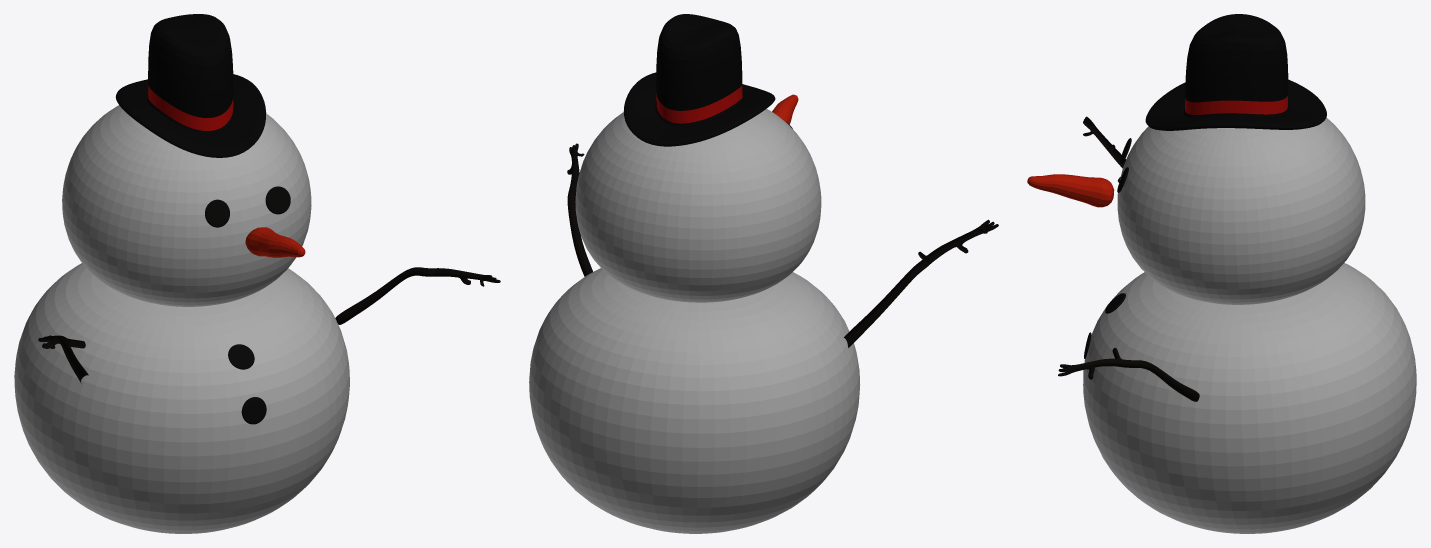
Rendered from bonecoDeNeve.obj.
3 renders of one model, left to right at view 1: azimuth 30°, elevation 25°; view 2: azimuth 150°, elevation 25°; view 3: azimuth 270°, elevation 25°, orthographic.
Parts seen in each view (by area): view 1: Sphere.003_Sphere.007, Sphere.002_Sphere.006, Circle.010, Cube.060_Cube.090, CENOURA_Cube.003, Cube.059_Cube.089, Circle.005, Circle.006; view 2: Sphere.003_Sphere.007, Sphere.002_Sphere.006, Circle.010, Cube.059_Cube.089, Cube.060_Cube.090; view 3: Sphere.003_Sphere.007, Sphere.002_Sphere.006, Circle.010, CENOURA_Cube.003, Cube.060_Cube.090, Cube.059_Cube.089.
Boxes of the visible parts, left/top/right/bottom form: Sphere.003_Sphere.007: left=14, top=263, right=349, bottom=533; Sphere.002_Sphere.006: left=62, top=105, right=311, bottom=306; Circle.010: left=115, top=14, right=266, bottom=157; Cube.060_Cube.090: left=335, top=267, right=500, bottom=324; CENOURA_Cube.003: left=245, top=227, right=305, bottom=257; Cube.059_Cube.089: left=38, top=335, right=88, bottom=383; Circle.005: left=265, top=186, right=290, bottom=214; Circle.006: left=205, top=199, right=229, bottom=227; Sphere.003_Sphere.007: left=529, top=268, right=859, bottom=533; Sphere.002_Sphere.006: left=575, top=108, right=821, bottom=302; Circle.010: left=623, top=14, right=775, bottom=146; Cube.059_Cube.089: left=844, top=219, right=998, bottom=347; Cube.060_Cube.090: left=567, top=143, right=592, bottom=276; Sphere.003_Sphere.007: left=1083, top=263, right=1416, bottom=533; Sphere.002_Sphere.006: left=1117, top=117, right=1365, bottom=304; Circle.010: left=1145, top=14, right=1326, bottom=130; CENOURA_Cube.003: left=1027, top=174, right=1114, bottom=207; Cube.060_Cube.090: left=1058, top=347, right=1199, bottom=401; Cube.059_Cube.089: left=1083, top=116, right=1125, bottom=182.
Size of the model in its own units: 94.03 by 98.82 by 71.06.
